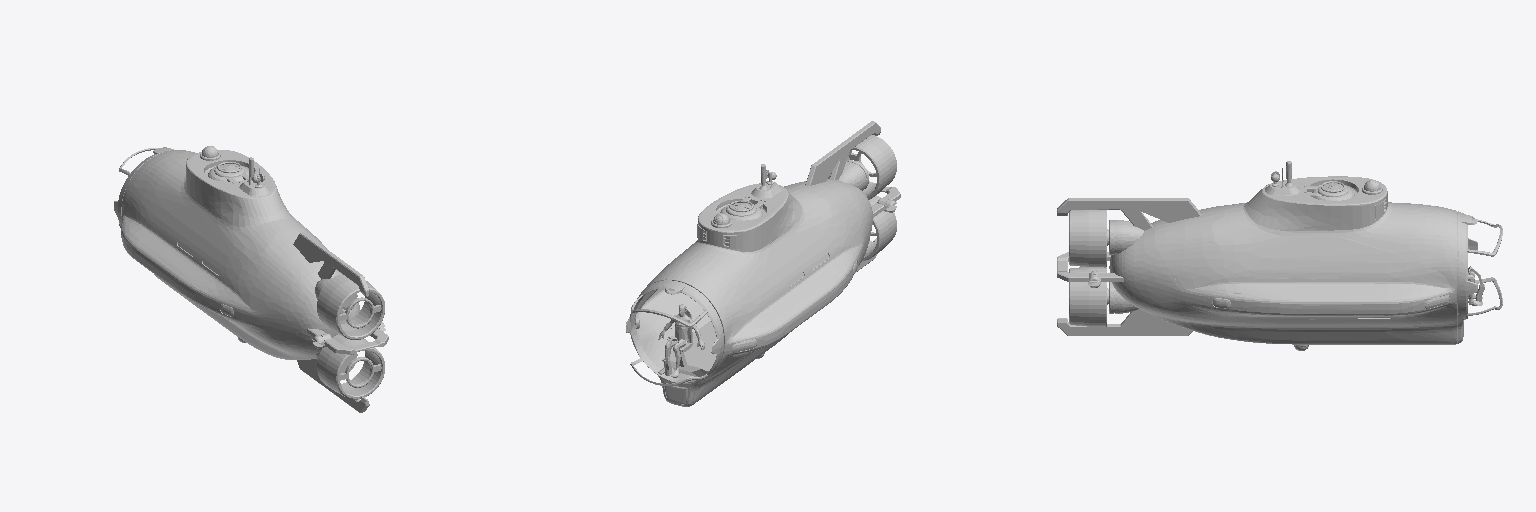
3 views of the same model, side by side, from view 1: azimuth 30°, elevation 25°; view 2: azimuth 150°, elevation 25°; view 3: azimuth 270°, elevation 25° (orthographic).
Visible parts, largest first — view 1: Odyssey_OBJ; view 2: Odyssey_OBJ; view 3: Odyssey_OBJ.
Part boxes in pixels (left/top/right/bottom): Odyssey_OBJ: left=114, top=146, right=388, bottom=412; Odyssey_OBJ: left=626, top=121, right=900, bottom=406; Odyssey_OBJ: left=1057, top=161, right=1502, bottom=350.
Size of the model in its own units: 347 by 451 by 967.